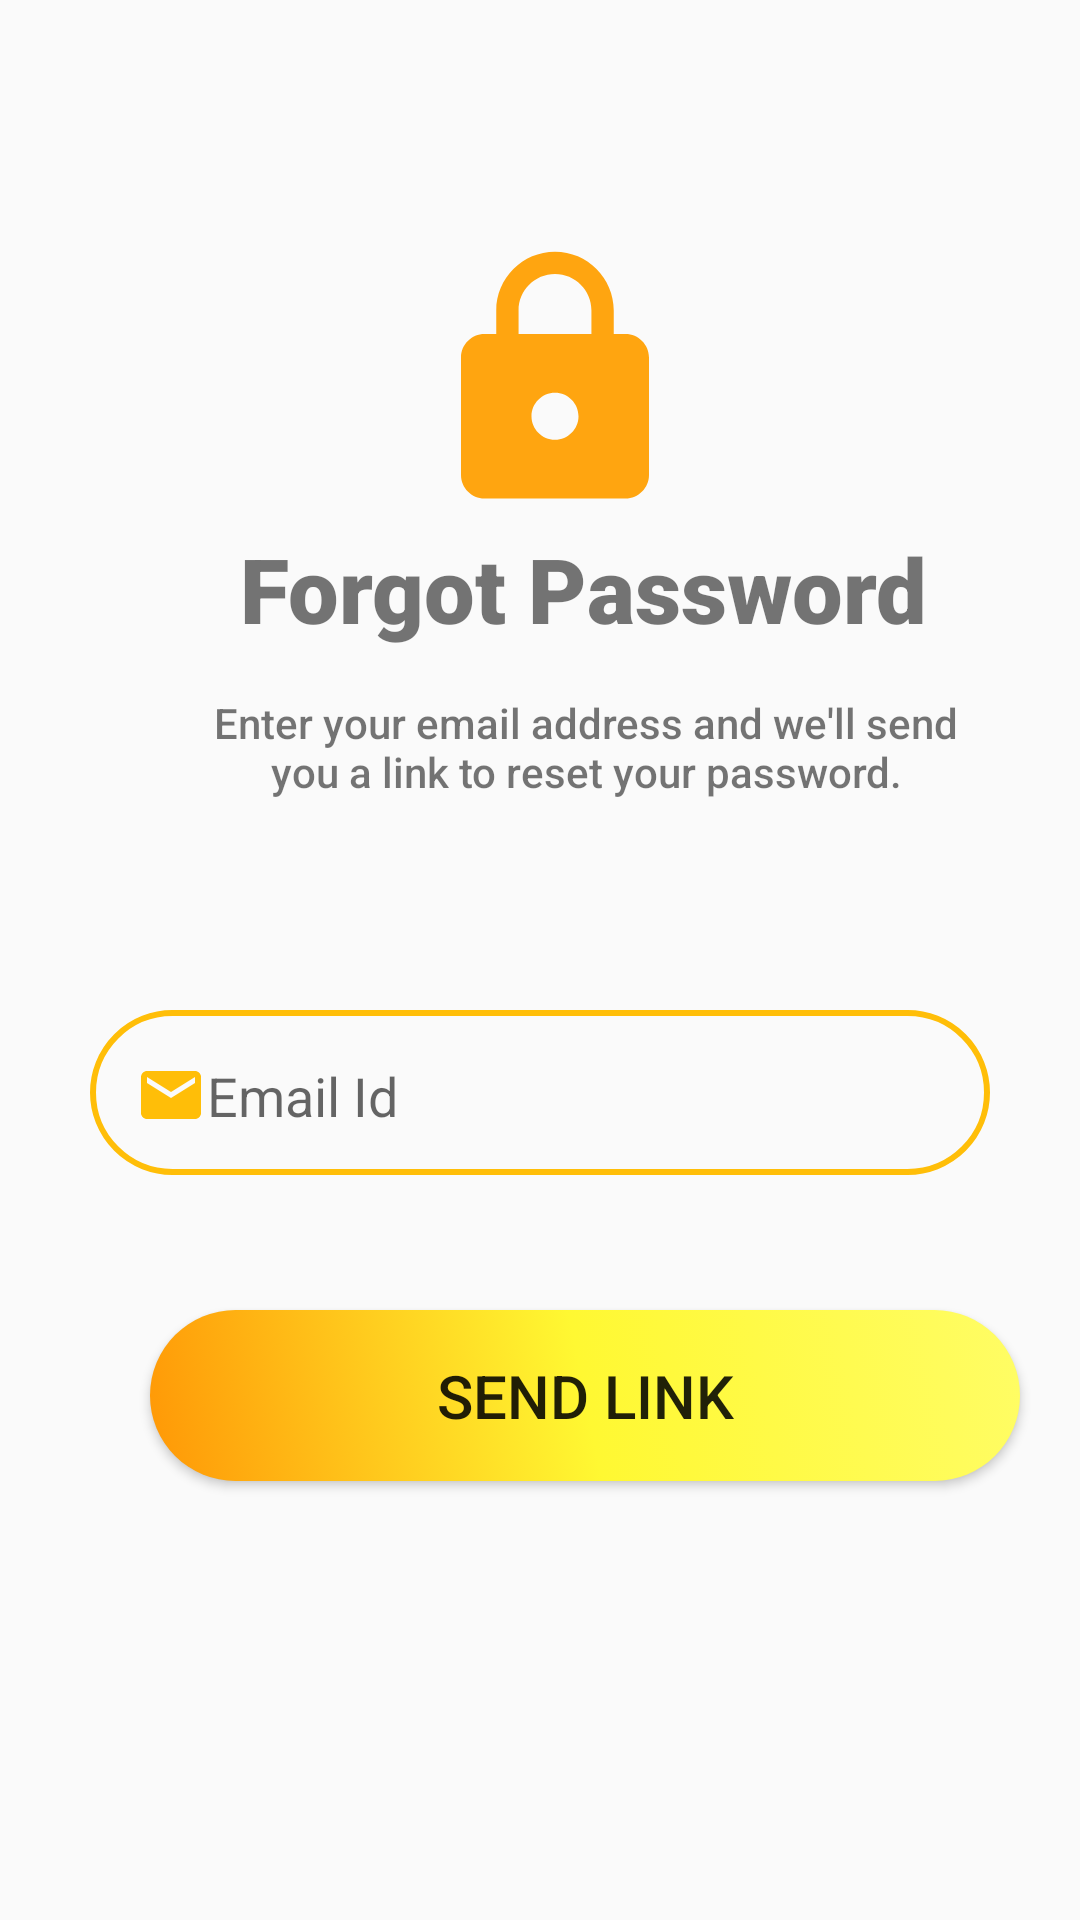

Named icons in this screenshot (1080*1920) and their bounding boxes, {"left": x1, "top": y1, "right": x2, "bottom": y2}:
lock: {"left": 461, "top": 251, "right": 649, "bottom": 499}
